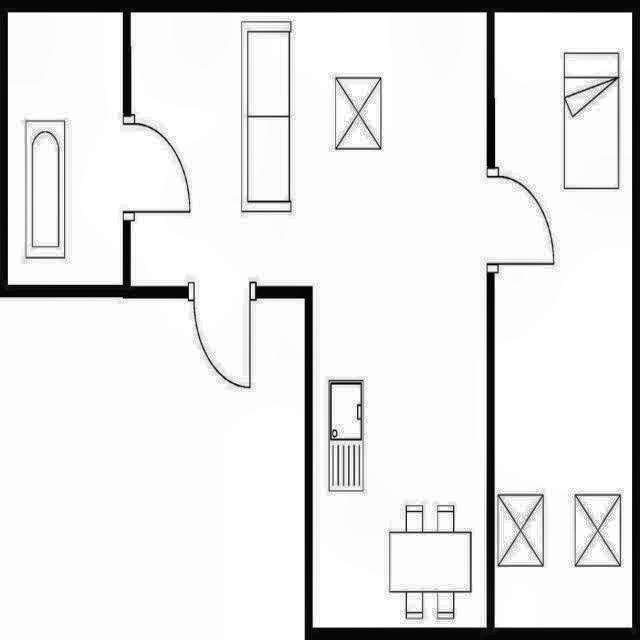room: (131, 12, 487, 628), (495, 12, 632, 628), (8, 12, 123, 285)
